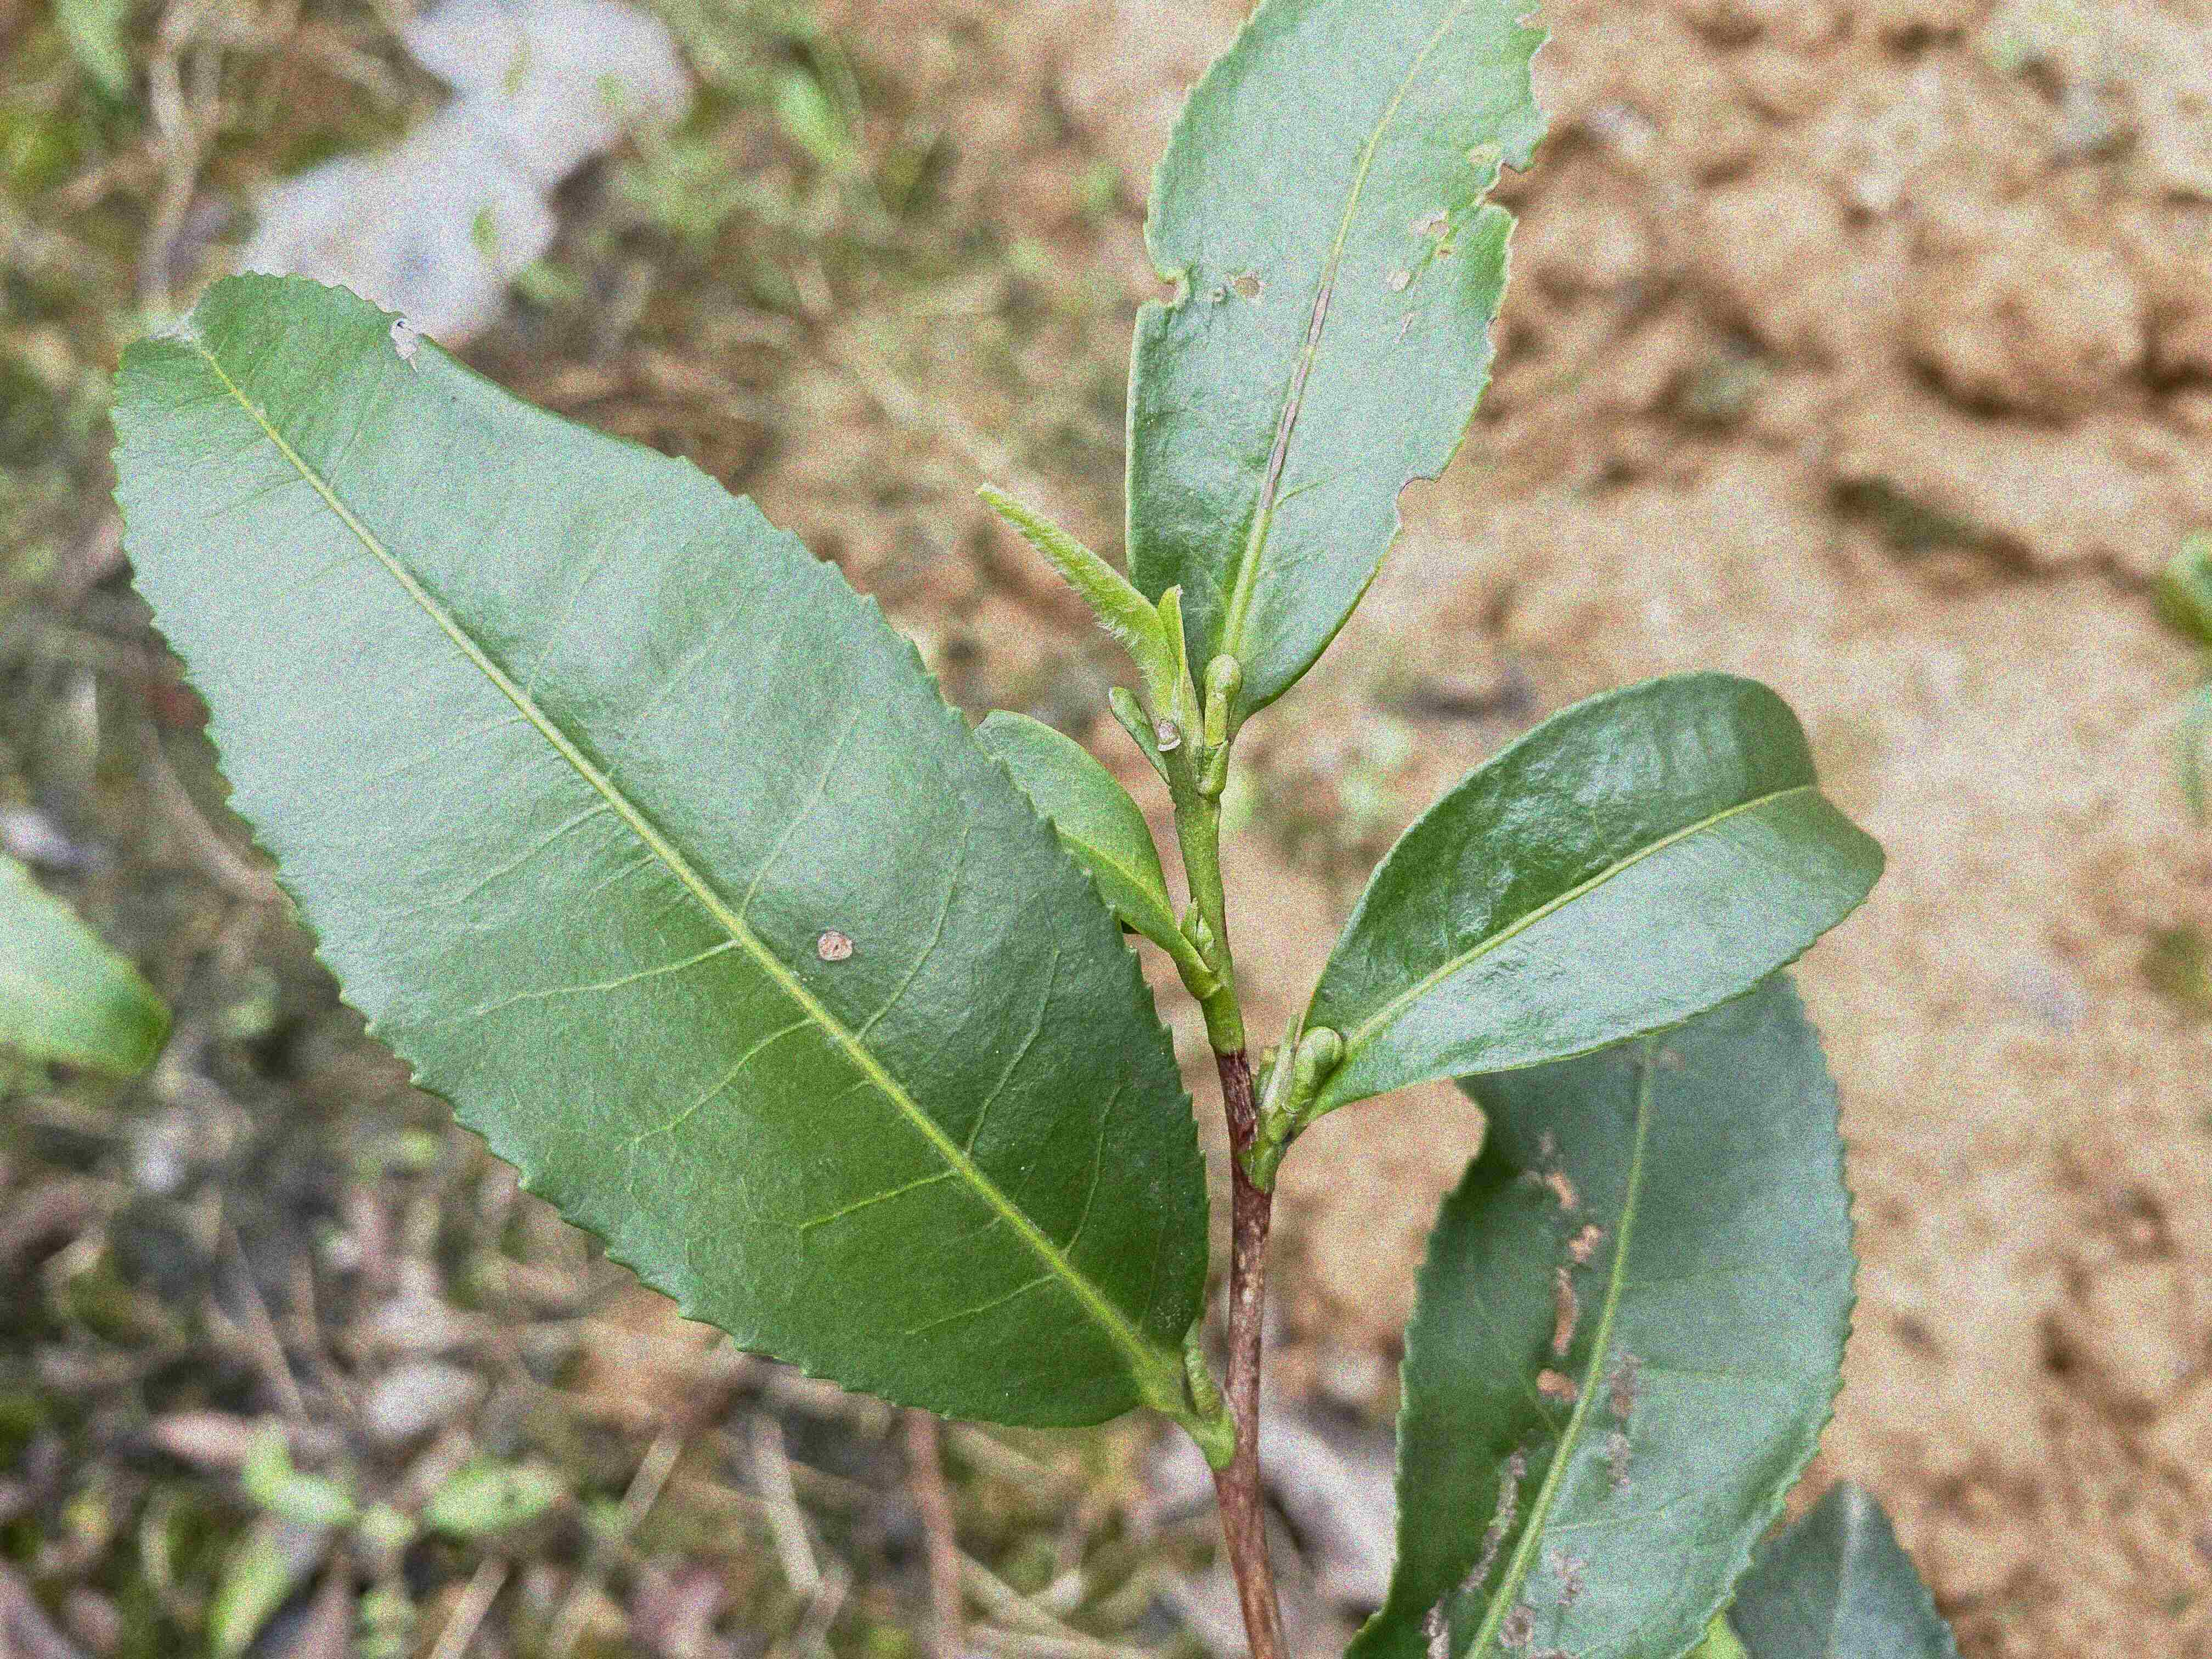chihuo_high: (1338, 965, 1864, 1657), (1122, 3, 1555, 709)
healthy: (1301, 666, 1885, 1119)
tanju_low: (106, 272, 1209, 1429)
